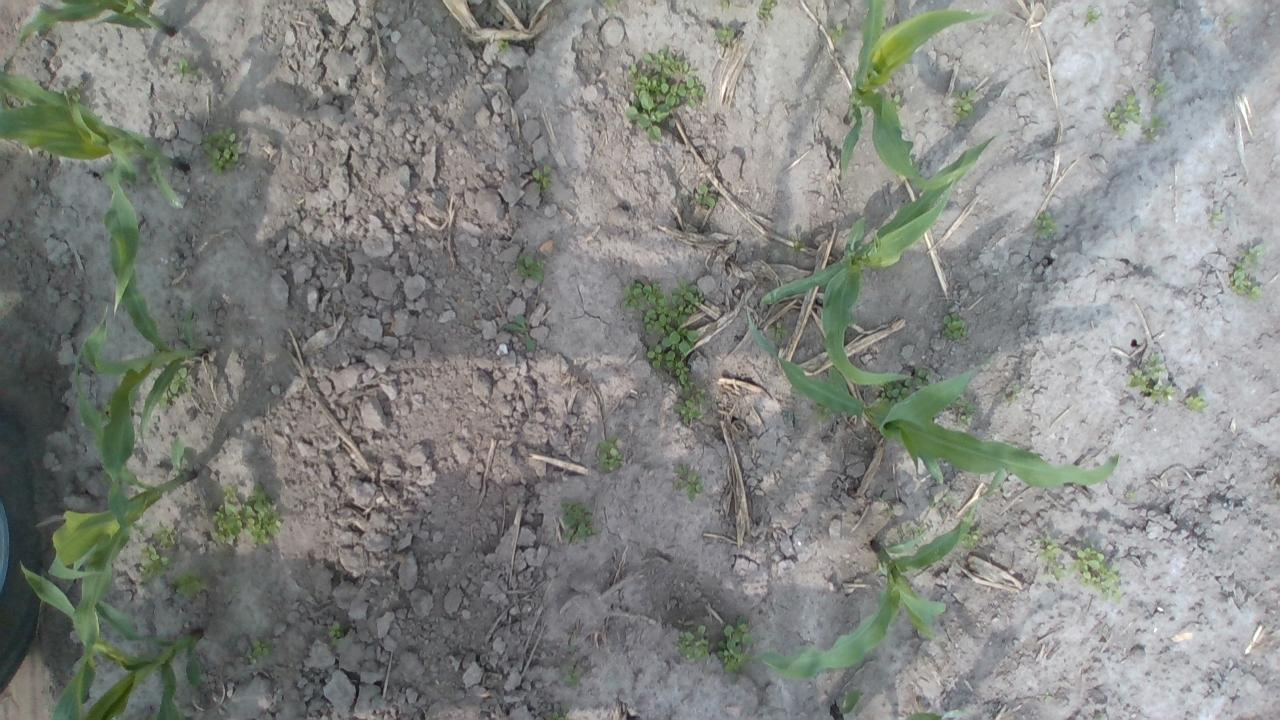Maize: (741, 309, 1120, 491), (726, 466, 1008, 684), (759, 130, 994, 386), (44, 360, 194, 720), (0, 70, 187, 312), (70, 210, 204, 444), (838, 0, 995, 191), (16, 562, 202, 720), (17, 0, 176, 47), (829, 688, 944, 720)
Weeds: (623, 276, 706, 388), (624, 48, 704, 142), (210, 485, 282, 548), (1070, 544, 1122, 603), (138, 520, 182, 581), (198, 125, 244, 177), (876, 368, 930, 408), (718, 614, 752, 675), (559, 498, 601, 544), (1233, 243, 1265, 302), (154, 366, 192, 412), (1103, 94, 1141, 137), (502, 314, 539, 353), (672, 384, 708, 424), (672, 463, 704, 502), (1038, 536, 1066, 580), (678, 624, 709, 662), (174, 566, 208, 598), (594, 438, 624, 474), (46, 72, 82, 102), (515, 254, 545, 284), (952, 88, 977, 122), (242, 638, 271, 665), (954, 396, 978, 428), (1032, 210, 1058, 239), (943, 312, 967, 340), (1143, 113, 1166, 141), (1126, 368, 1150, 394), (958, 526, 982, 551), (1145, 351, 1169, 376), (532, 164, 554, 191), (696, 184, 718, 208), (560, 664, 582, 688), (1150, 384, 1176, 403), (327, 621, 345, 648), (1183, 394, 1207, 413), (828, 22, 848, 44), (765, 324, 790, 340), (172, 58, 194, 75), (713, 26, 735, 42), (1150, 80, 1169, 98), (816, 404, 834, 423), (759, 0, 776, 18), (1004, 383, 1020, 401), (494, 38, 510, 55), (1086, 7, 1102, 23), (872, 560, 888, 576), (790, 240, 806, 256), (888, 93, 902, 111), (912, 526, 926, 544), (941, 494, 960, 507), (548, 709, 568, 720), (1210, 210, 1224, 224), (1125, 487, 1137, 500), (1223, 14, 1234, 28), (190, 305, 200, 320), (928, 496, 939, 507), (872, 494, 886, 502), (604, 0, 616, 7)
